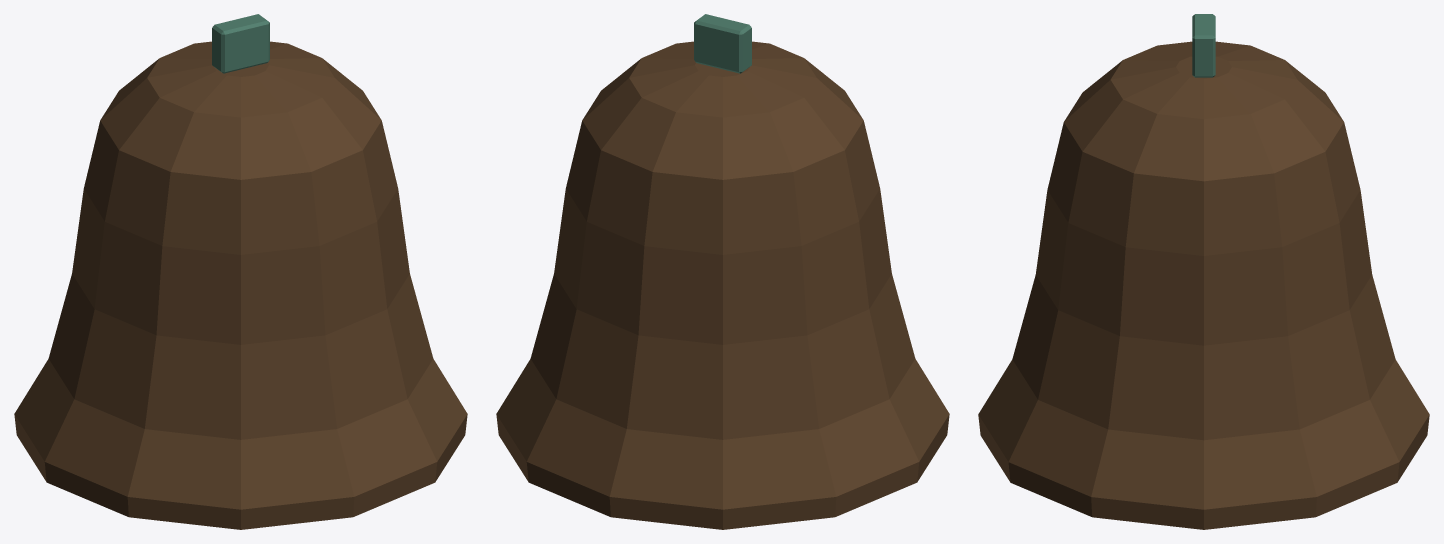
File: Prop_Lab_EchoBell_S10_LOD1.glb
3 views of the same model, side by side, from view 1: azimuth 30°, elevation 25°; view 2: azimuth 150°, elevation 25°; view 3: azimuth 270°, elevation 25° (orthographic).
Parts seen in each view (by area): view 1: Prop_Lab_EchoBell_S10; view 2: Prop_Lab_EchoBell_S10; view 3: Prop_Lab_EchoBell_S10.
Boxes of the visible parts, x1,y1,x2,y2 form: Prop_Lab_EchoBell_S10: [14, 14, 467, 529]; Prop_Lab_EchoBell_S10: [496, 14, 949, 529]; Prop_Lab_EchoBell_S10: [978, 14, 1429, 529].
Bounding box in the file's own units: 0.6306 × 0.6333 × 0.6306.
